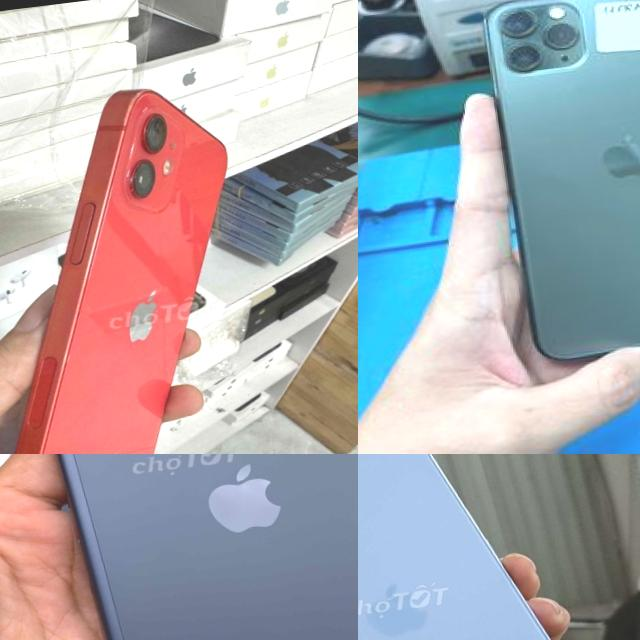gen_11: (463, 0, 640, 386)
gen_12_13: (0, 72, 280, 454)
gen_17: (0, 454, 358, 640), (358, 454, 640, 640)
